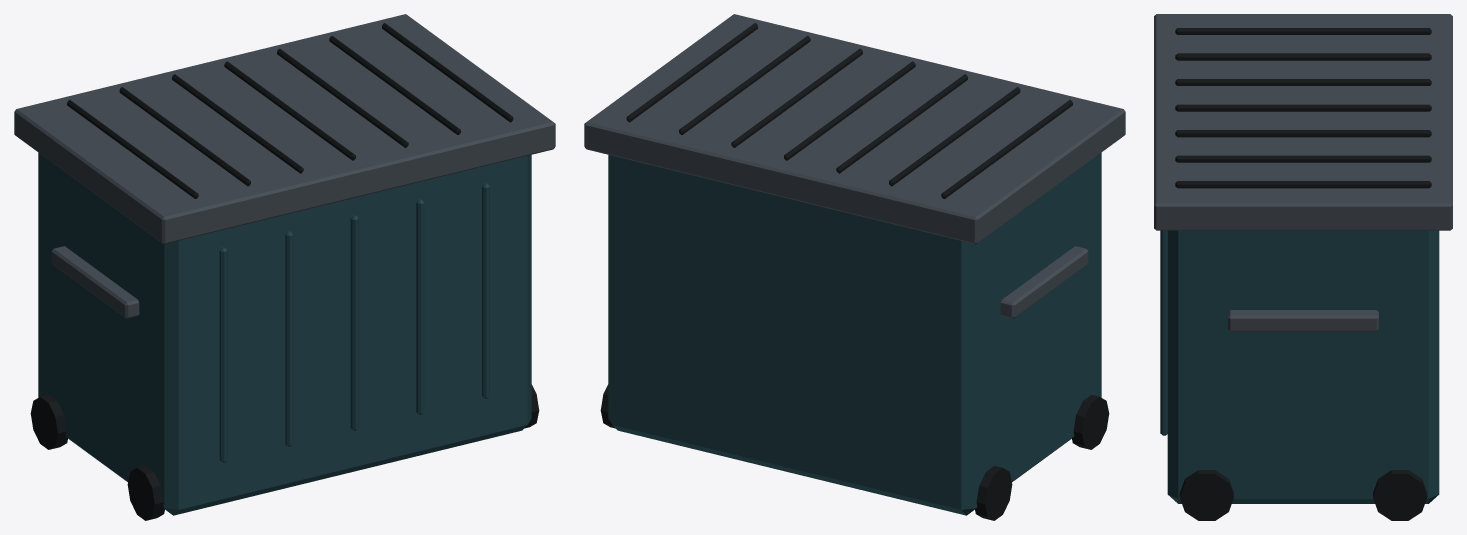
File: Dumpster.fbx
3 renders of one model, left to right at view 1: azimuth 30°, elevation 25°; view 2: azimuth 150°, elevation 25°; view 3: azimuth 270°, elevation 25°, orthographic.
Visible parts, largest first — view 1: Dumpster; view 2: Dumpster; view 3: Dumpster.
Boxes of the visible parts, <box> form: Dumpster: <box>14,14,555,520</box>; Dumpster: <box>584,14,1125,520</box>; Dumpster: <box>1154,14,1452,520</box>.
Size of the model in its own units: 150 by 119 by 99.
Materials: 1 (1 with a texture image).
